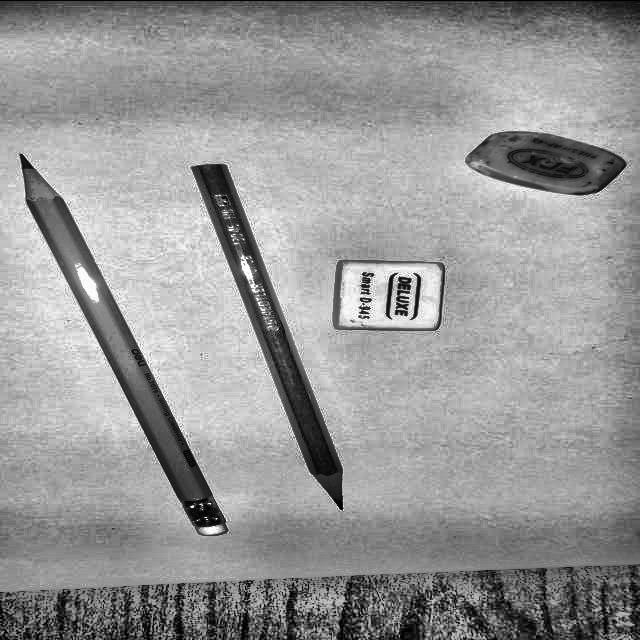eraser: (395, 93, 639, 248), (299, 230, 483, 347)
